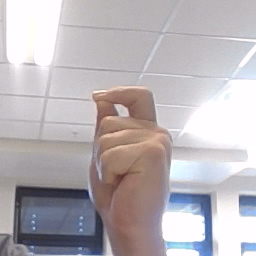T: (75, 84, 175, 214)
